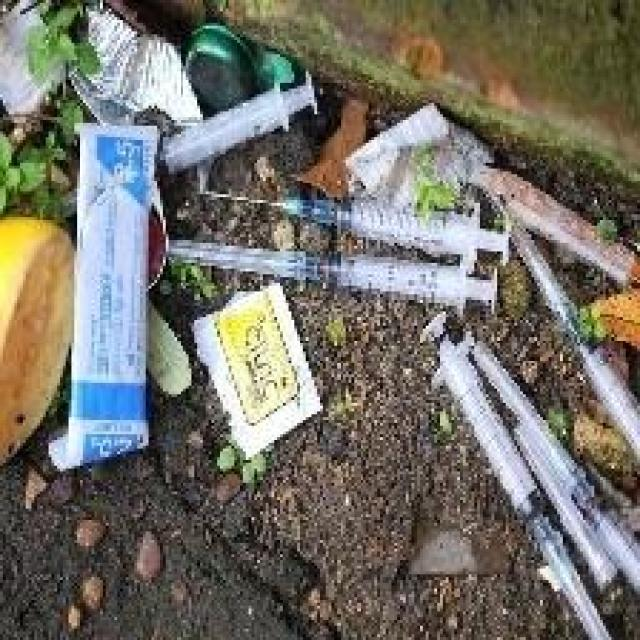syringe: (399, 311, 640, 634), (160, 170, 504, 312), (504, 207, 640, 431), (138, 53, 328, 170)
